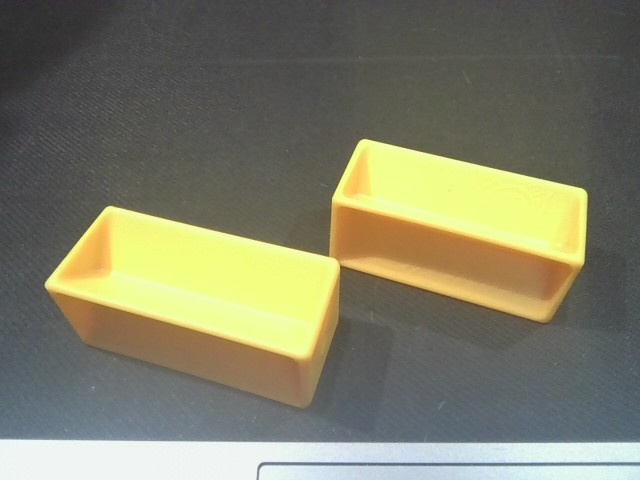YellowSample: (41, 202, 342, 412), (325, 137, 590, 327)
